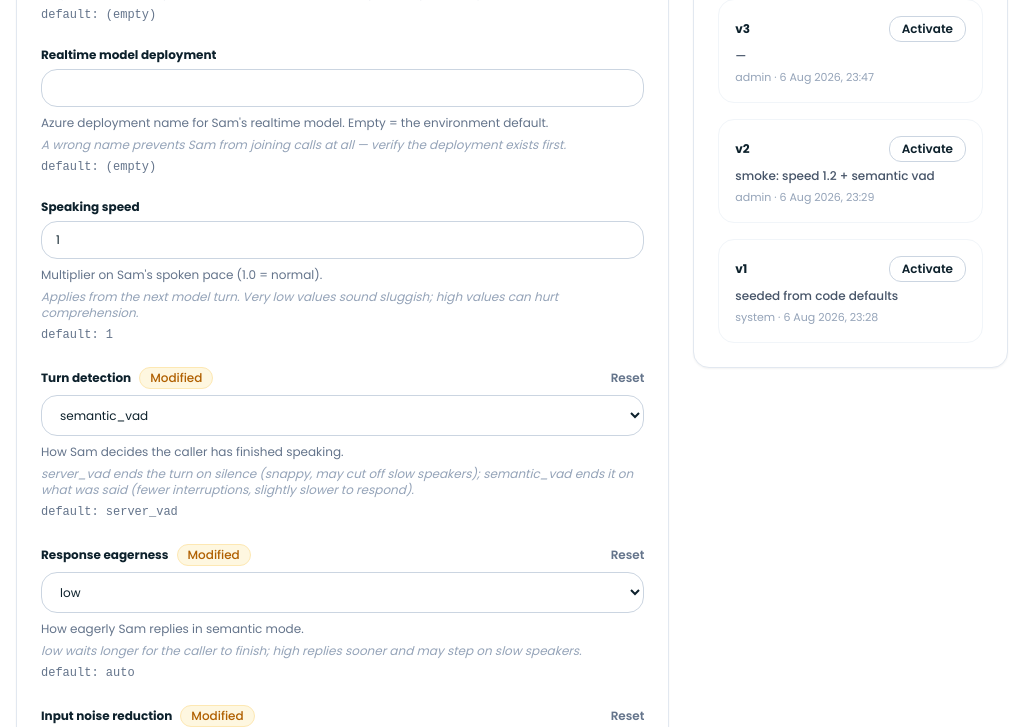
Test: AgentManagement Organism › resets a modified field back to default value
(page scrolled)
Click the button "Reset" in the row of "Turn detection" at [627, 378], box [611,370,644,386]
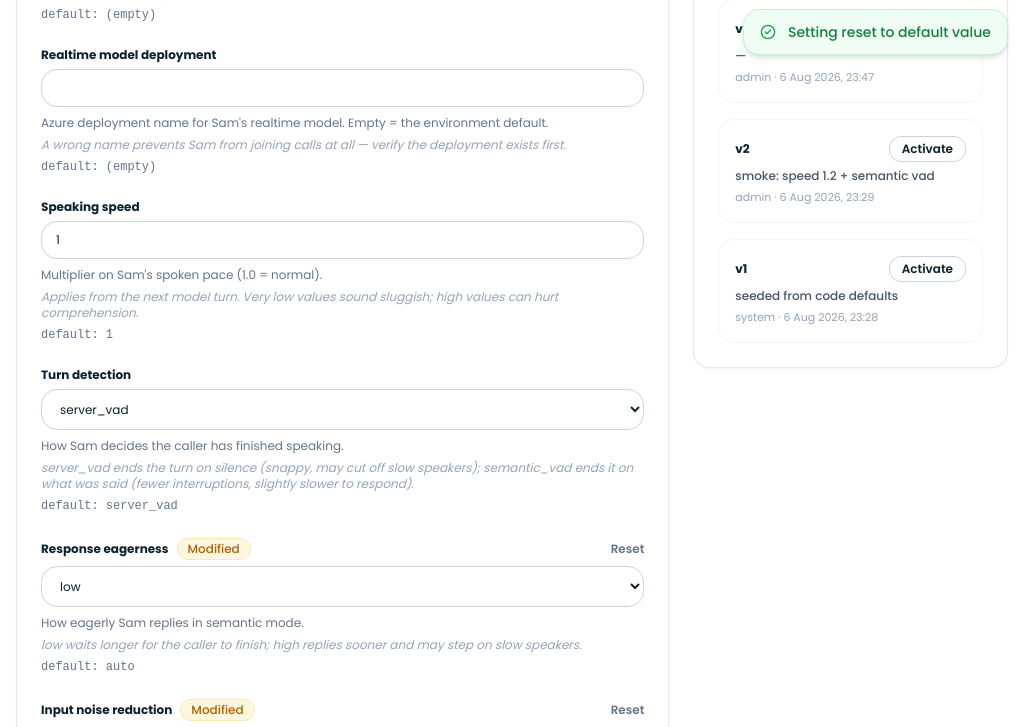
Expected: the text "Setting reset to default value" is shown, [788,22,991,42]
